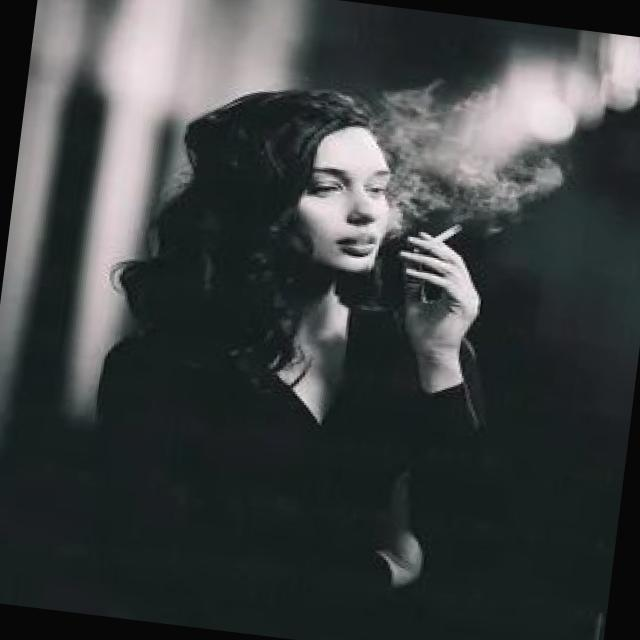smoke: (420, 216, 468, 257)
